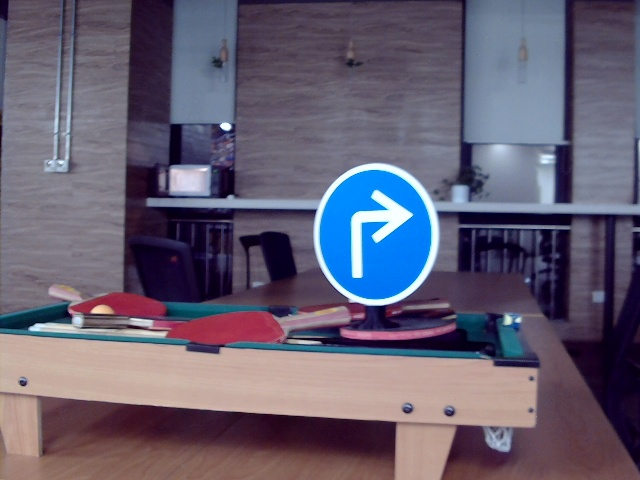turn_right: (340, 185, 409, 281)
